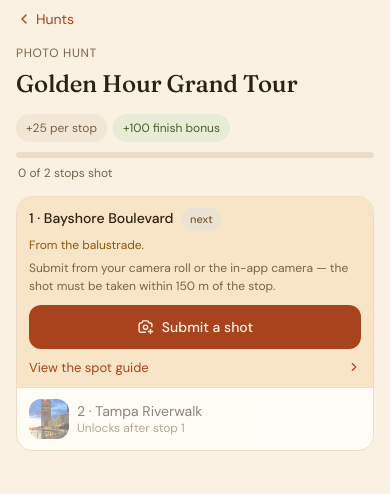
Hunt detail — native capture › recovers from an upload failure without wedging the button
The image size is (390, 494).
Click the button "Submit a shot" at (195, 326), box [29, 304, 361, 348]
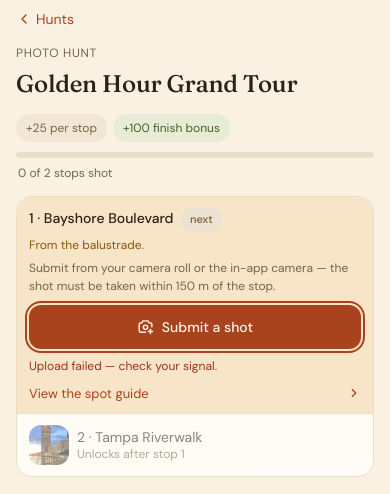
Expected: the text "Upload failed — check your signal." is shown, [29, 358, 217, 374]
